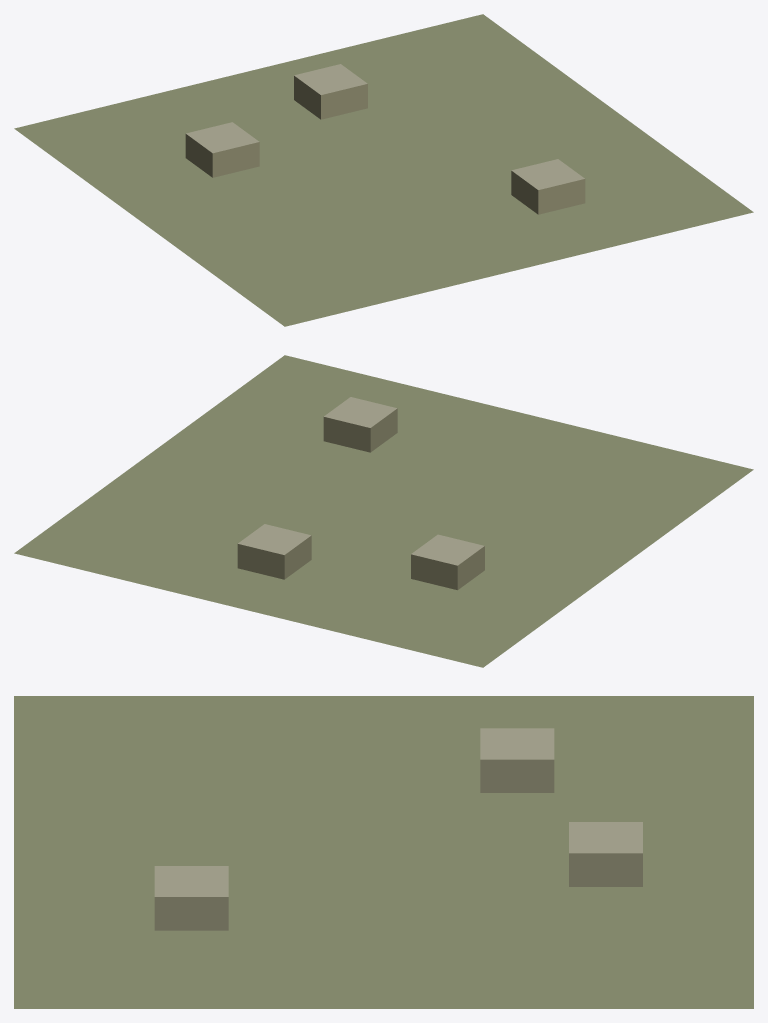
File: plain.gltf
3 views of the same model, one above another, from view 1: azimuth 30°, elevation 25°; view 2: azimuth 150°, elevation 25°; view 3: azimuth 270°, elevation 25° (orthographic). The views are drawn at different scales.
Parts seen in each view (by area): view 1: terrain-plain; view 2: terrain-plain; view 3: terrain-plain.
Boxes of the visible parts, x1,y1,x2,y2 form: terrain-plain: [14, 14, 753, 326]; terrain-plain: [14, 355, 753, 667]; terrain-plain: [14, 696, 753, 1008].
Size of the model in its own units: 1 by 0.05 by 1.
